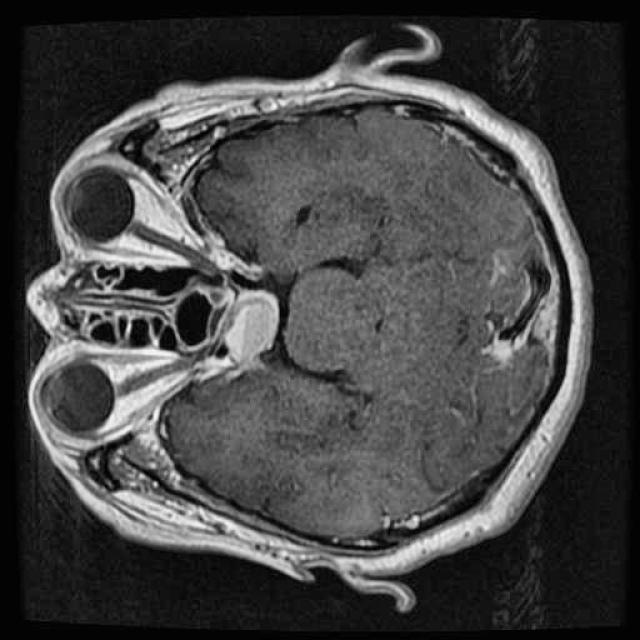Tumor: (218, 285, 286, 379)
